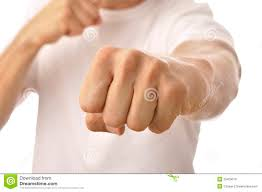fist: (83, 50, 186, 128)
